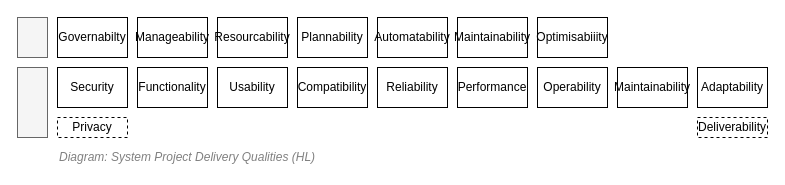
Image size: 785x185. Some labels were removed from this diagram. Each missing label, with the box of its shape:
Delivery: (16, 16, 48, 58)
System (ISO-25010): (16, 66, 48, 138)
